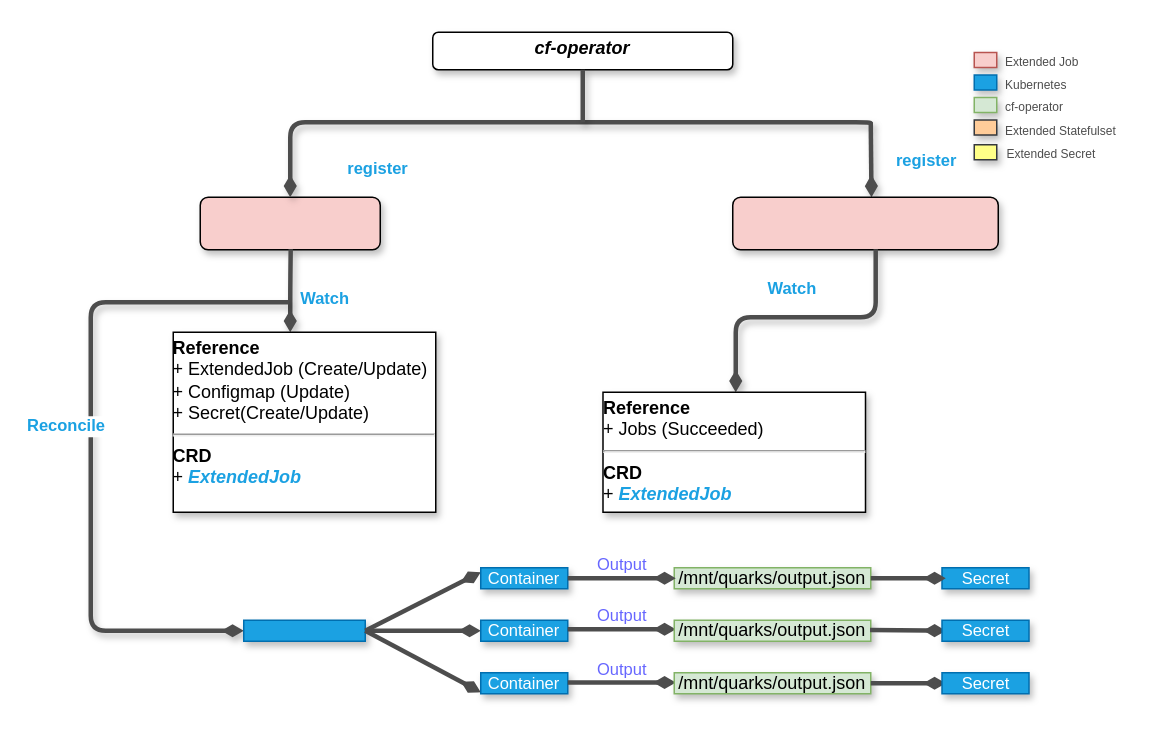
This 1163x732 diagram has some shape labels left out. The centre of each missing label's shape, as x and y in pixels:
Errand Controller: [291,225]
Job Controller: [866,225]
JOBS: [305,632]
